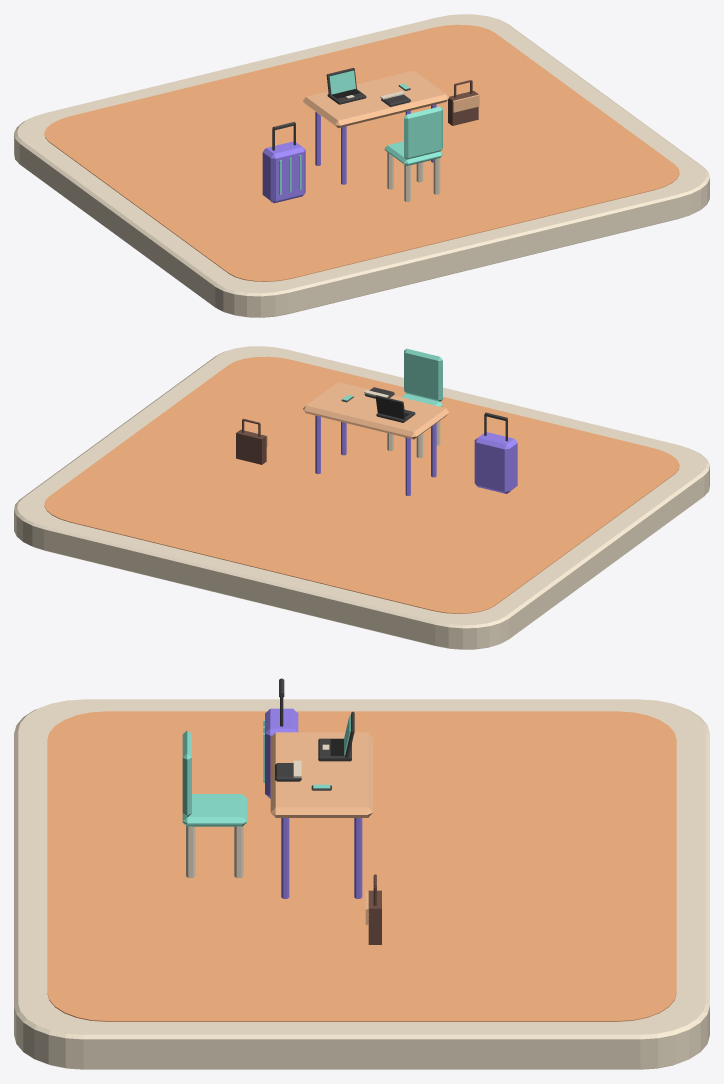
Rendered from room.fbx.
3 renders of one model, top to bottom at view 1: azimuth 30°, elevation 25°; view 2: azimuth 150°, elevation 25°; view 3: azimuth 270°, elevation 25°, orthographic. The views are drawn at different scales.
Parts seen in each view (by area): view 1: COM-02 Floor Surface, COM-01 Rounded Base Direct, Rounded table top, Shell, Backrest, Bag, Seat, Display face; view 2: COM-02 Floor Surface, COM-01 Rounded Base Direct, Rounded table top, Shell, Backrest, Bag, Hinged display; view 3: COM-02 Floor Surface, COM-01 Rounded Base Direct, Rounded table top, Seat, Shell, Bag, Backrest, Leg.002, Leg.003.
Part boxes in pixels (<box>): COM-02 Floor Surface: <box>44,24,679,281</box>; COM-01 Rounded Base Direct: <box>14,14,709,317</box>; Rounded table top: <box>303,70,449,128</box>; Shell: <box>262,141,305,203</box>; Backrest: <box>404,106,442,159</box>; Bag: <box>448,80,479,125</box>; Seat: <box>384,141,442,165</box>; Display face: <box>329,70,355,94</box>; COM-02 Floor Surface: <box>44,356,679,613</box>; COM-01 Rounded Base Direct: <box>14,346,709,649</box>; Rounded table top: <box>303,382,449,439</box>; Shell: <box>474,432,517,493</box>; Backrest: <box>404,348,442,401</box>; Bag: <box>236,418,267,464</box>; Hinged display: <box>375,395,405,419</box>; COM-02 Floor Surface: <box>47,711,676,1021</box>; COM-01 Rounded Base Direct: <box>14,699,709,1069</box>; Rounded table top: <box>270,732,372,817</box>; Seat: <box>182,794,246,826</box>; Shell: <box>265,708,298,798</box>; Bag: <box>365,874,381,944</box>; Backrest: <box>182,730,191,817</box>; Leg.002: <box>281,818,289,898</box>; Leg.003: <box>354,818,362,898</box>.
Bounding box in the file's own units: 600 × 135 × 520.
